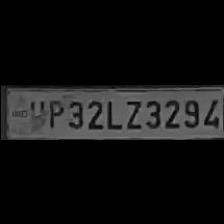2: (84, 96, 104, 130), (162, 96, 180, 128)
3: (64, 97, 82, 129), (142, 96, 160, 128)
4: (200, 94, 220, 128)
9: (180, 94, 198, 128)
L: (103, 96, 120, 130)
P: (43, 96, 62, 128)
U: (27, 96, 43, 130)
Z: (121, 96, 141, 130)
